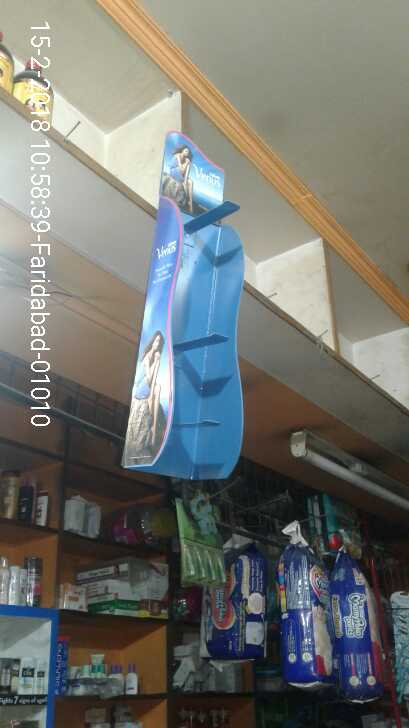olay: (16, 656, 46, 700)
